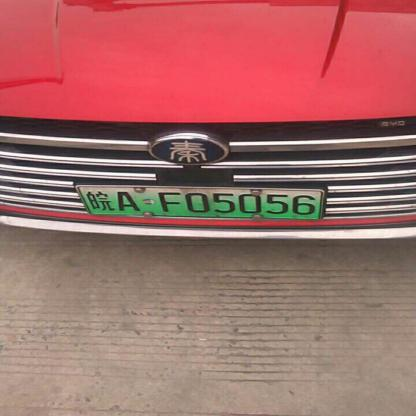lp: (76, 185, 320, 219)
